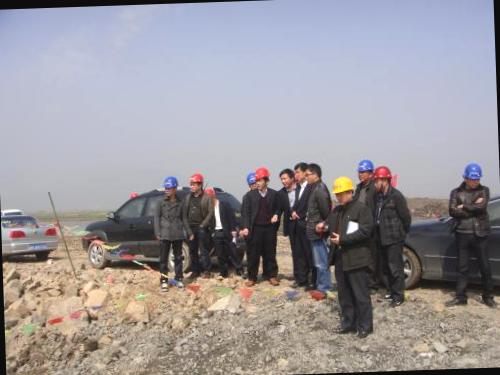no_helmet: (276, 164, 297, 193), (292, 160, 308, 186), (304, 162, 322, 184)
